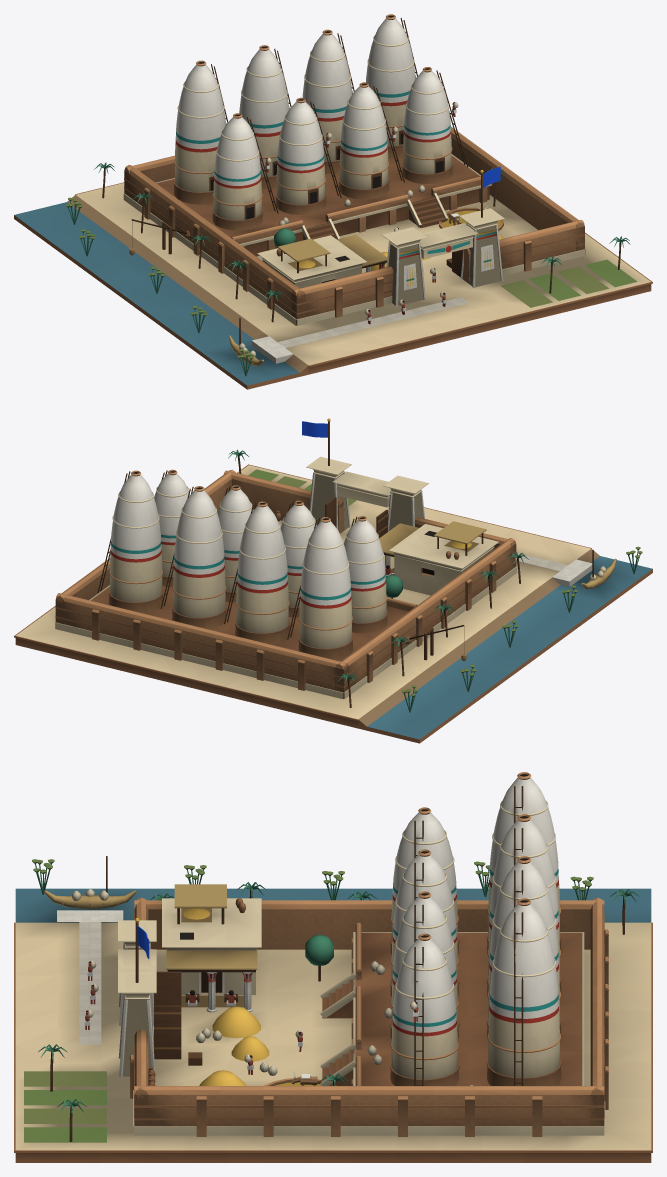
The model's file is lm_ambar.glb.
The picture shows the model from 3 angles, top to bottom: view 1: azimuth 30°, elevation 25°; view 2: azimuth 150°, elevation 25°; view 3: azimuth 270°, elevation 25°; orthographic projection. The views are drawn at different scales.
Visible parts, largest first — view 1: lm_ambar; view 2: lm_ambar; view 3: lm_ambar.
Boxes of the visible parts, x1,y1,x2,y2 form: lm_ambar: (14,14,652,389); lm_ambar: (14,418,652,743); lm_ambar: (14,772,652,1162).
Bounding box in the file's own units: 2.31 × 0.8519 × 2.31.
1 material, 1 textured.
